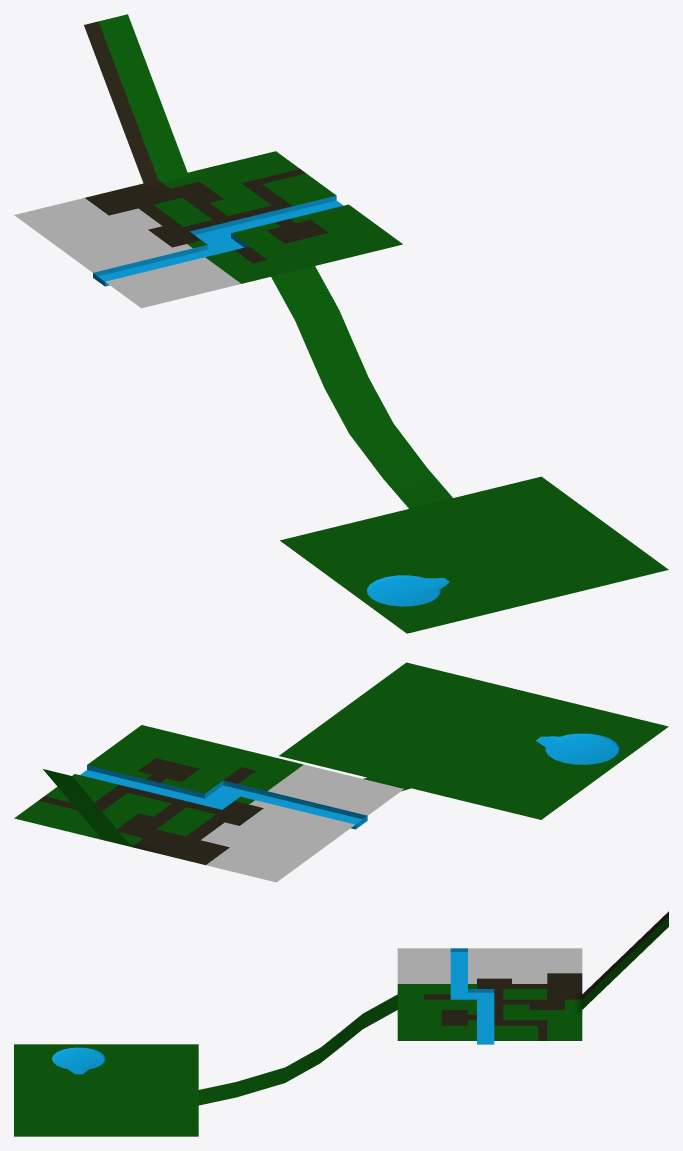
Rendered from plain_hill_terrain_AK.fbx.
3 views of the same model, one above another, from view 1: azimuth 30°, elevation 25°; view 2: azimuth 150°, elevation 25°; view 3: azimuth 270°, elevation 25° (orthographic). The views are drawn at different scales.
Visible parts, largest first — view 1: pPlane10; view 2: pPlane10; view 3: pPlane10.
Boxes of the visible parts, x1,y1,x2,y2 form: pPlane10: [14, 14, 668, 633]; pPlane10: [14, 662, 668, 882]; pPlane10: [14, 911, 668, 1136].
Size of the model in its own units: 5357 by 4846 by 15963.
